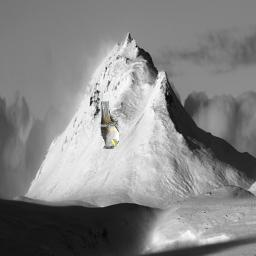Cuckoo: (99, 101, 119, 149)
